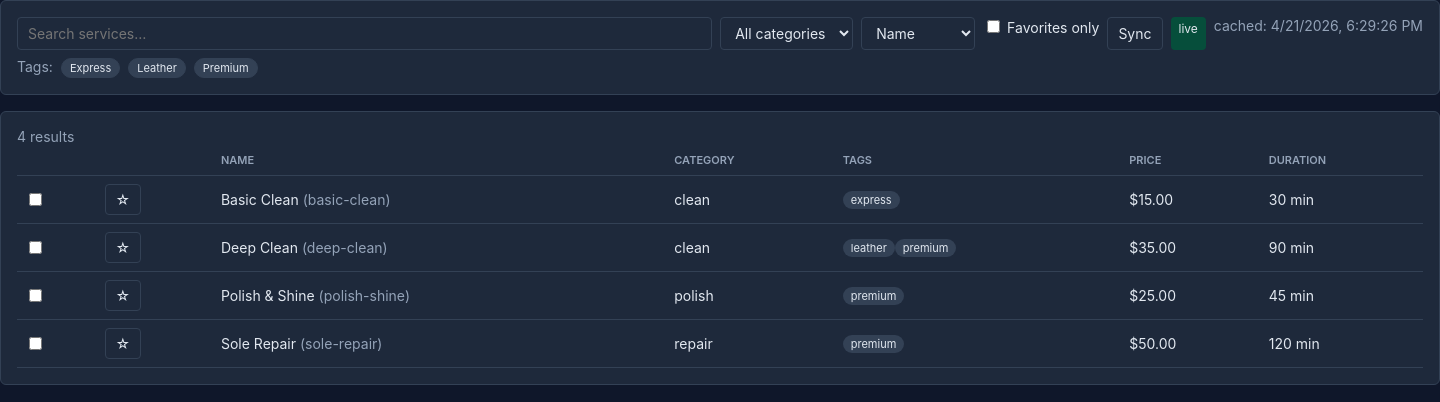
Test case: catalog filters › filters by tag
This screenshot has width=1440, height=402.
Expected: the row with test id "svc-row-basic-clean" is shown, x1=17 y1=176 x2=1423 y2=224
Step 1. Click the button with test id "tag-premium" → click(226, 68), box x1=194 y1=58 x2=258 y2=78
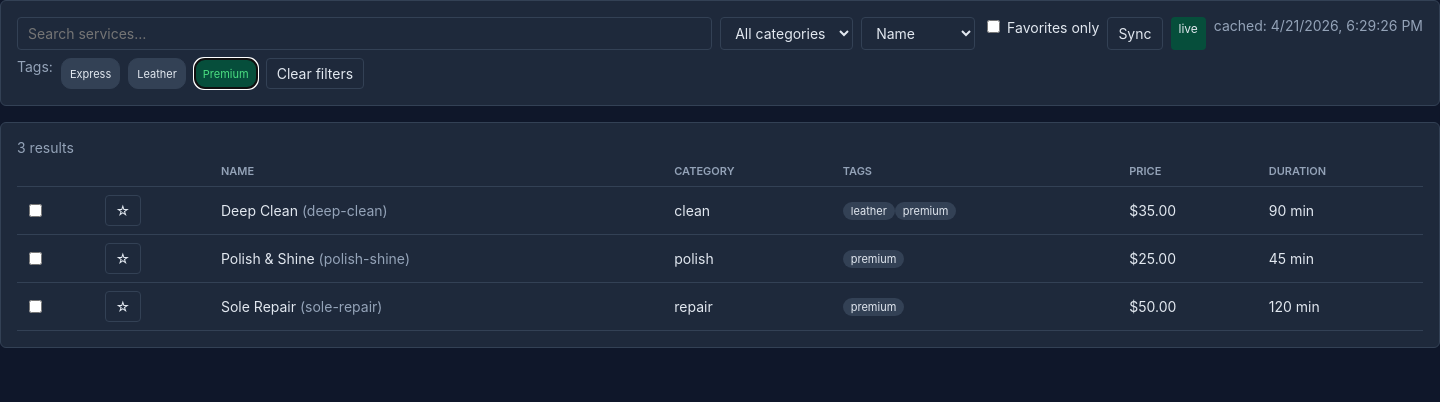
Expected: the row with test id "svc-row-deep-clean" is shown, x1=17 y1=186 x2=1423 y2=234
Now the row with test id "svc-row-basic-clean" is gone
